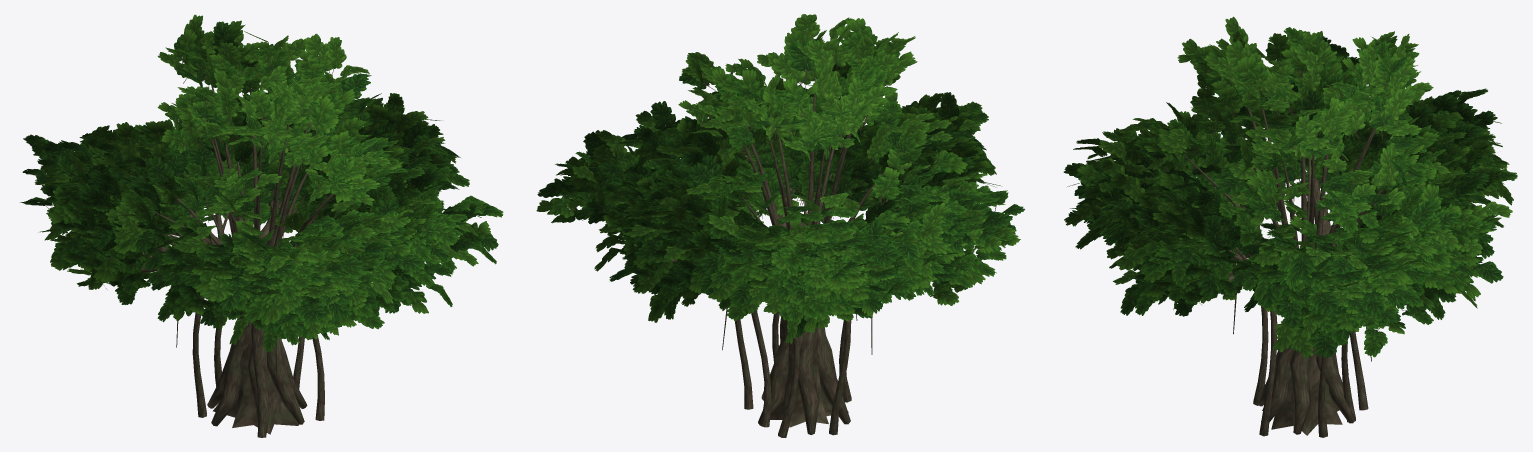
The model's file is veg-tree-banyan-lod0-89bb6c7978f7.glb.
The picture shows the model from 3 angles, left to right: view 1: azimuth 30°, elevation 25°; view 2: azimuth 150°, elevation 25°; view 3: azimuth 270°, elevation 25°; orthographic projection.
Parts seen in each view (by area): view 1: veg-tree-banyan_lod0; view 2: veg-tree-banyan_lod0; view 3: veg-tree-banyan_lod0.
Part boxes in pixels (x1=…): veg-tree-banyan_lod0: x1=20, y1=14, x2=503, y2=437; veg-tree-banyan_lod0: x1=536, y1=14, x2=1024, y2=437; veg-tree-banyan_lod0: x1=1063, y1=16, x2=1517, y2=437.
Bounding box in the file's own units: 10.86 × 8.5 × 9.36.
2 materials, 2 textured.
